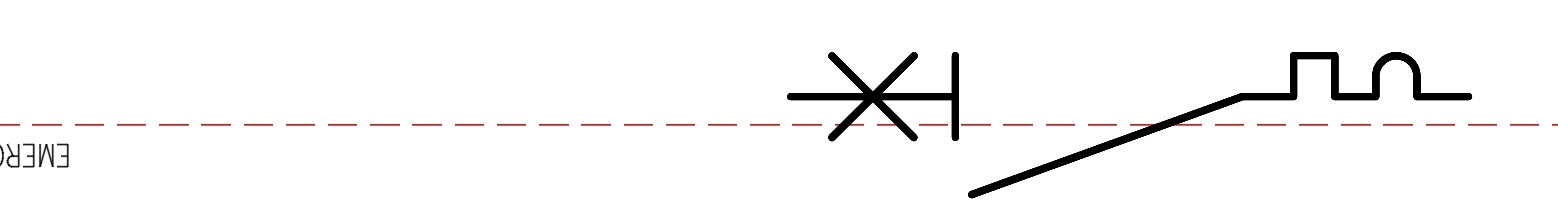interruptor_termomagnetico: (773, 38, 1486, 212)
